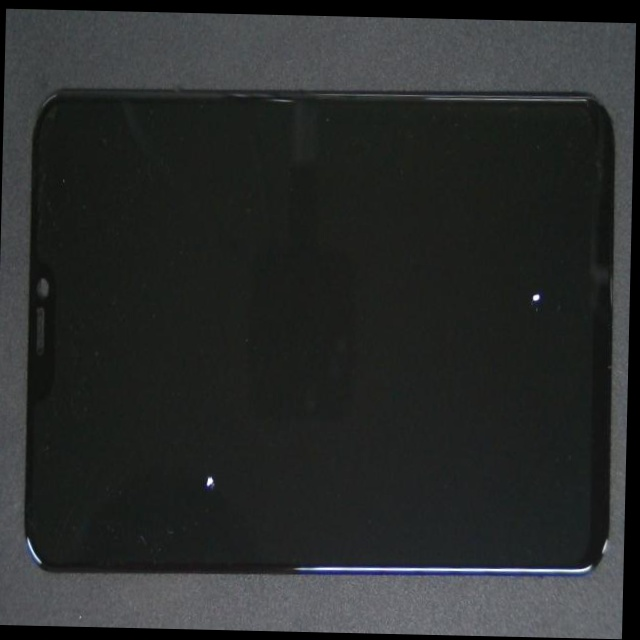stain: (228, 165, 633, 462), (113, 215, 322, 632)
